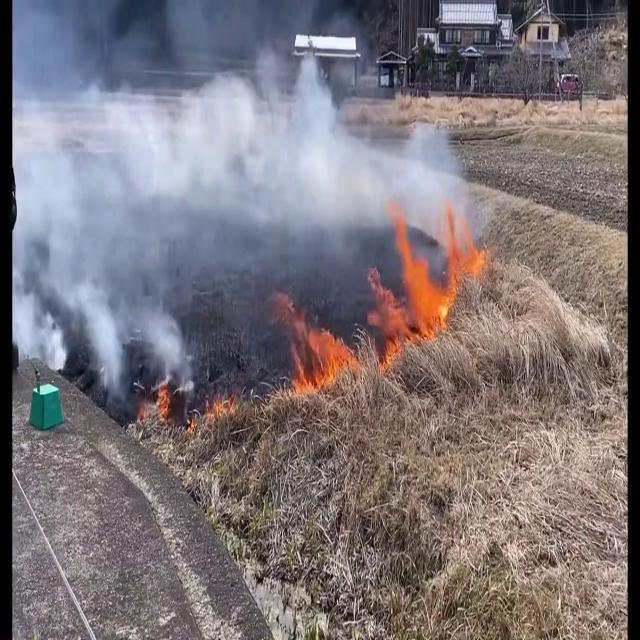Fire: (382, 202, 491, 356), (287, 306, 363, 398)
Smoke: (13, 1, 460, 387)
